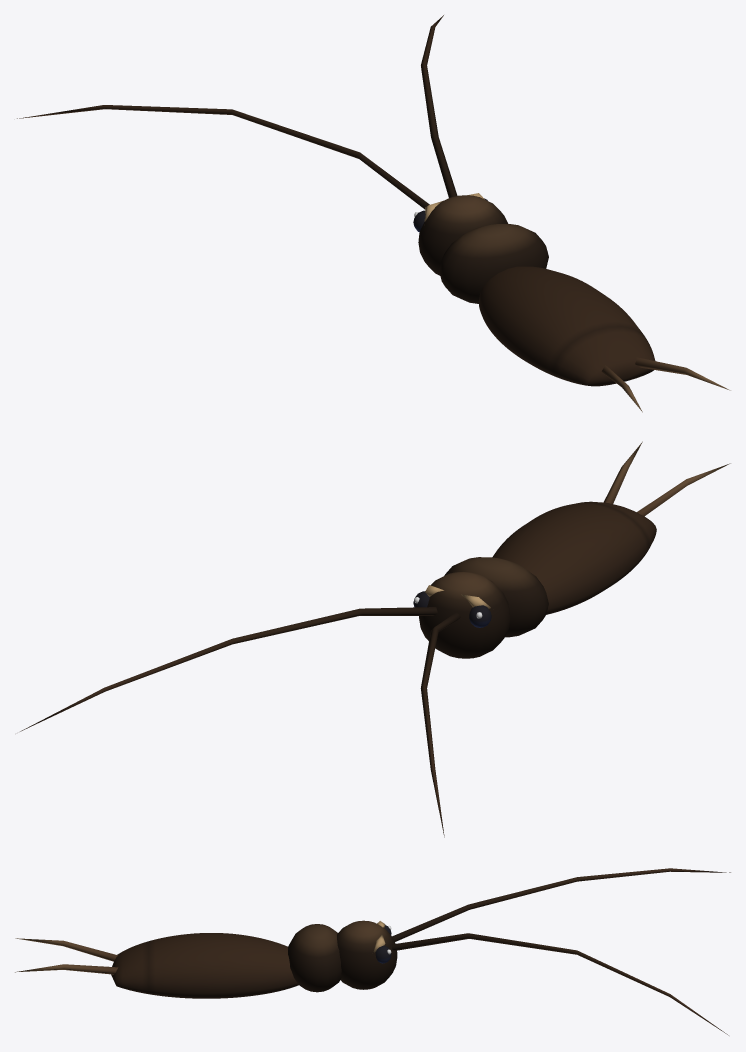
File: Korogi.fbx
3 renders of one model, top to bottom at view 1: azimuth 30°, elevation 25°; view 2: azimuth 150°, elevation 25°; view 3: azimuth 270°, elevation 25°, orthographic. The views are drawn at different scales.
Parts seen in each view (by area): view 1: Korogi; view 2: Korogi; view 3: Korogi.
Part boxes in pixels (<box>): Korogi: <box>17,15,730,412</box>; Korogi: <box>20,441,730,837</box>; Korogi: <box>15,868,730,1035</box>.
Size of the model in its own units: 1.26 by 0.2674 by 2.32.
